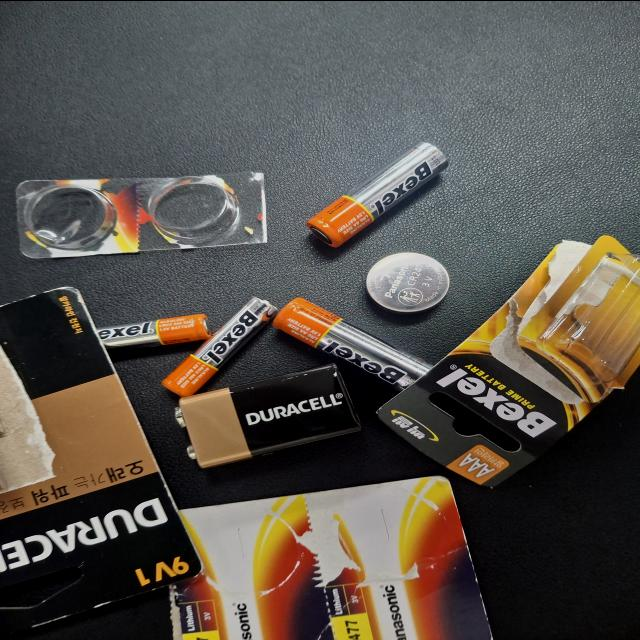9V: (231, 292, 370, 431)
AA: (334, 365, 458, 484), (524, 390, 640, 495)
AAA: (325, 282, 458, 368), (391, 232, 436, 318)
COIN: (438, 435, 518, 497)
